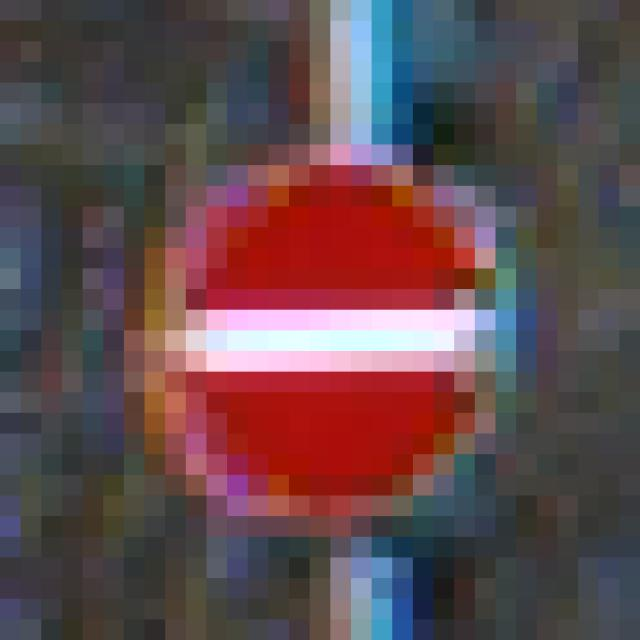No Entry: (125, 125, 538, 538)
